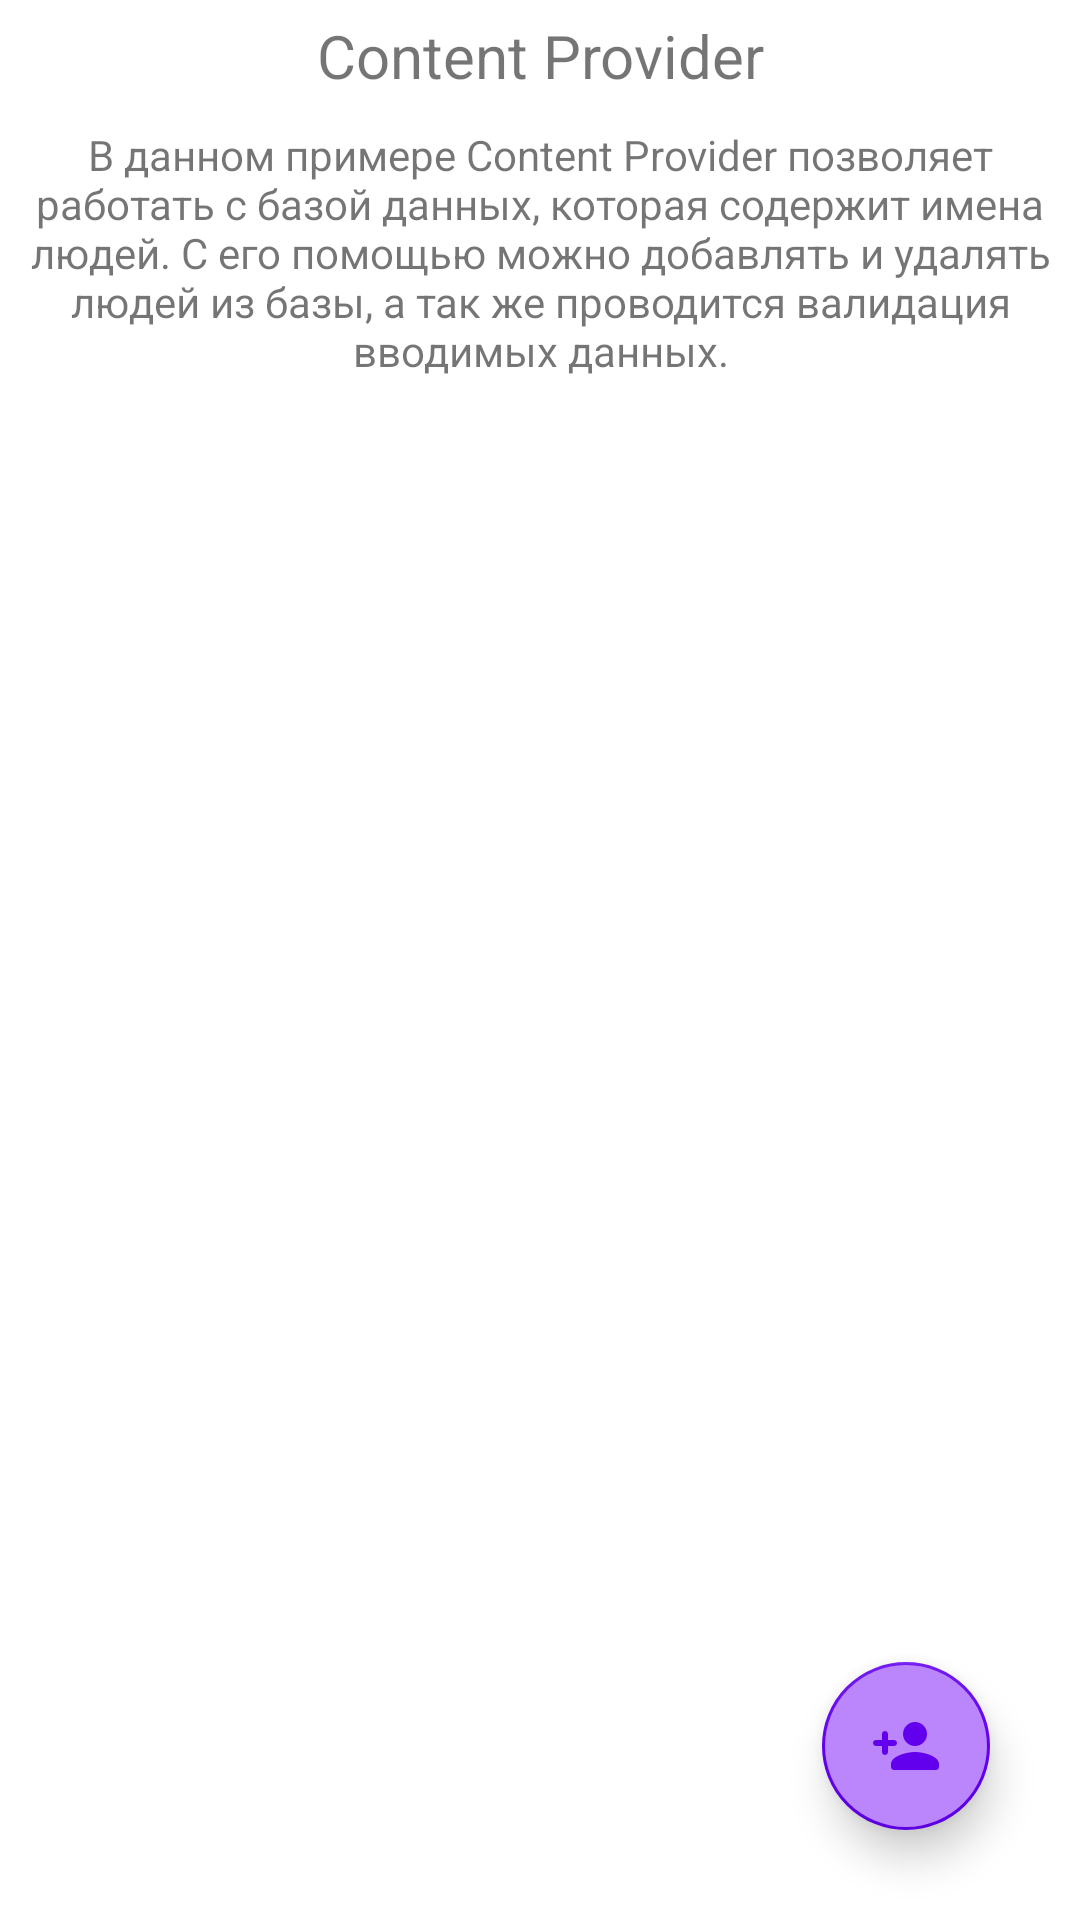

Screen size 1080px x 1920px. Icon name, then its center in pixels as (x,y):
person add: (906,1746)
